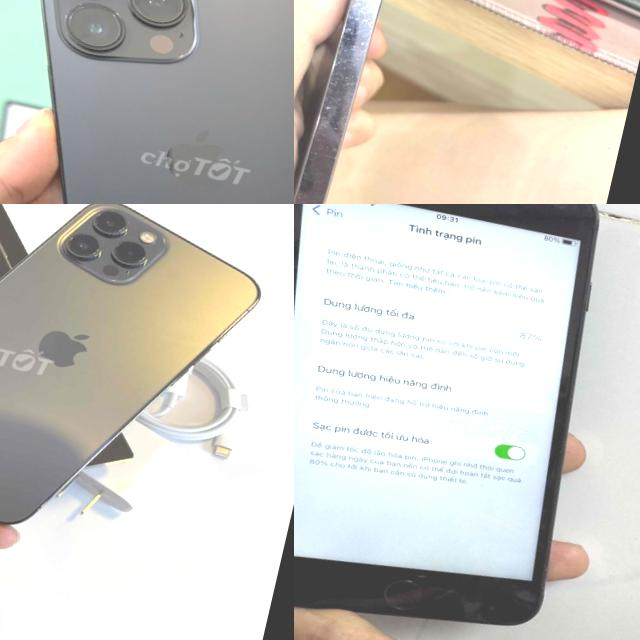gen_12_13: (0, 204, 274, 573)
gen_14: (0, 0, 294, 204), (294, 0, 454, 204)
gen_7_8: (294, 204, 640, 640)
